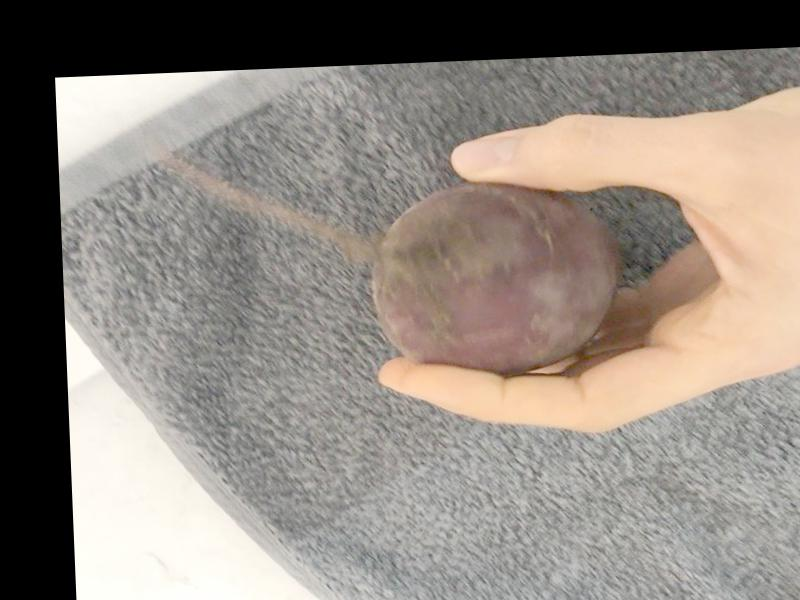Beet: (370, 177, 623, 379)
